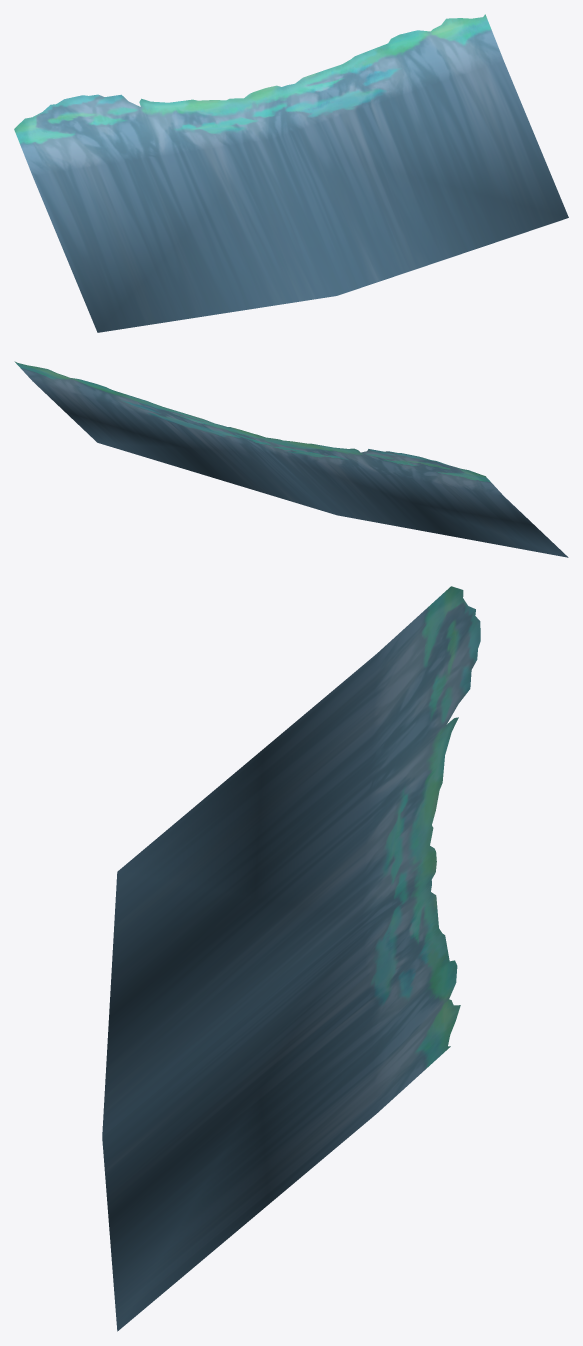
Rendered from SM_S01_ny_grd02_ABA.fbx.
The picture shows the model from 3 angles, top to bottom: view 1: azimuth 30°, elevation 25°; view 2: azimuth 150°, elevation 25°; view 3: azimuth 270°, elevation 25°; orthographic projection. The views are drawn at different scales.
Visible parts, largest first — view 1: SM_S01_ny_grd02_ABA; view 2: SM_S01_ny_grd02_ABA; view 3: SM_S01_ny_grd02_ABA.
Boxes of the visible parts, box(x1,y1,x2,y2) form: SM_S01_ny_grd02_ABA: box(14, 14, 568, 332); SM_S01_ny_grd02_ABA: box(14, 361, 568, 557); SM_S01_ny_grd02_ABA: box(102, 586, 480, 1331).
Bounding box in the file's own units: 7524 × 2608 × 2616.
